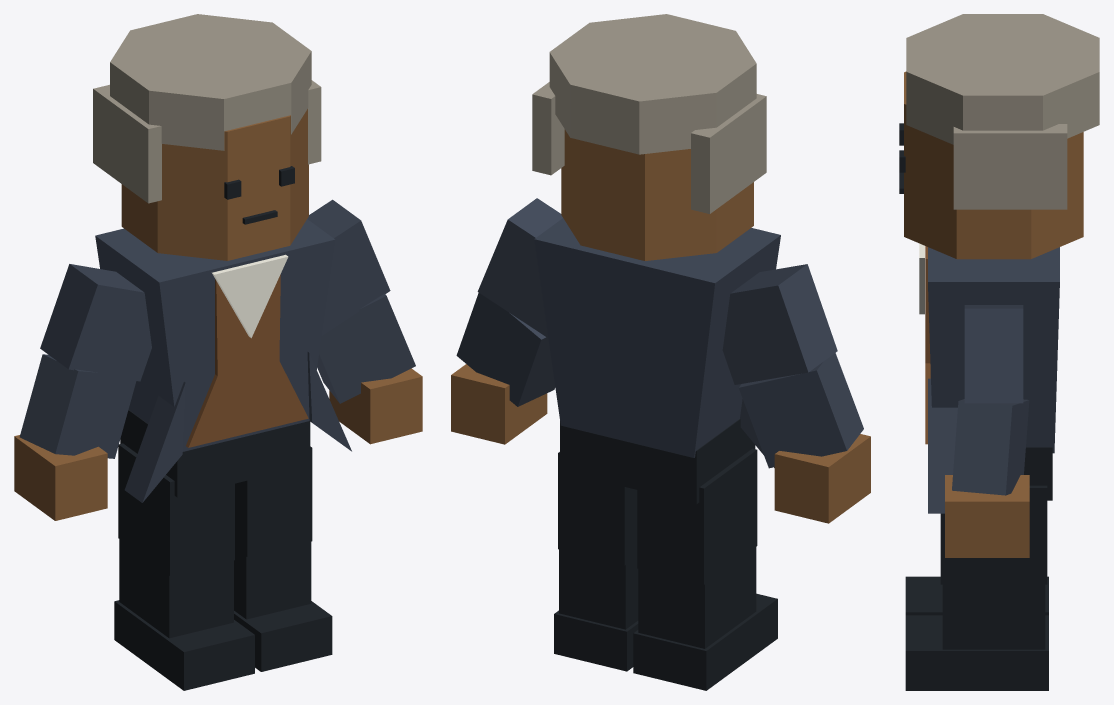
Rendered from Madison.glb.
3 renders of one model, left to right at view 1: azimuth 30°, elevation 25°; view 2: azimuth 150°, elevation 25°; view 3: azimuth 270°, elevation 25°, orthographic. The views are drawn at different scales.
Parts seen in each view (by area): view 1: Body_M_CastV02_burgundy_3d4656, Body_M_CastV02_black_1d2228, Body_M_CastV02_darkSkin_90653c, Body_M_CastV02_black_a29b8d, Body, Body_M_CastV02_white_f9f7ea; view 2: Body_M_CastV02_burgundy_3d4656, Body_M_CastV02_black_1d2228, Body_M_CastV02_black_a29b8d, Body_M_CastV02_darkSkin_90653c; view 3: Body_M_CastV02_black_a29b8d, Body_M_CastV02_burgundy_3d4656, Body_M_CastV02_black_1d2228, Body_M_CastV02_darkSkin_90653c, Body, Body_M_CastV02_white_f9f7ea.
Part boxes in pixels (<box>): Body_M_CastV02_burgundy_3d4656: <box>19,199,415,502</box>; Body_M_CastV02_black_1d2228: <box>114,166,332,690</box>; Body_M_CastV02_darkSkin_90653c: <box>14,109,422,520</box>; Body_M_CastV02_black_a29b8d: <box>93,14,321,203</box>; Body: <box>186,274,308,447</box>; Body_M_CastV02_white_f9f7ea: <box>212,254,288,338</box>; Body_M_CastV02_burgundy_3d4656: <box>456,198,863,468</box>; Body_M_CastV02_black_1d2228: <box>554,419,777,690</box>; Body_M_CastV02_black_a29b8d: <box>532,14,766,213</box>; Body_M_CastV02_darkSkin_90653c: <box>451,129,870,523</box>; Body_M_CastV02_black_a29b8d: <box>906,14,1099,209</box>; Body_M_CastV02_burgundy_3d4656: <box>928,247,1059,513</box>; Body_M_CastV02_black_1d2228: <box>899,123,1052,690</box>; Body_M_CastV02_darkSkin_90653c: <box>904,71,1083,557</box>; Body: <box>925,246,930,444</box>; Body_M_CastV02_white_f9f7ea: <box>919,243,924,314</box>.
Bounding box in the file's own units: 1.18 × 1.73 × 0.5245.
